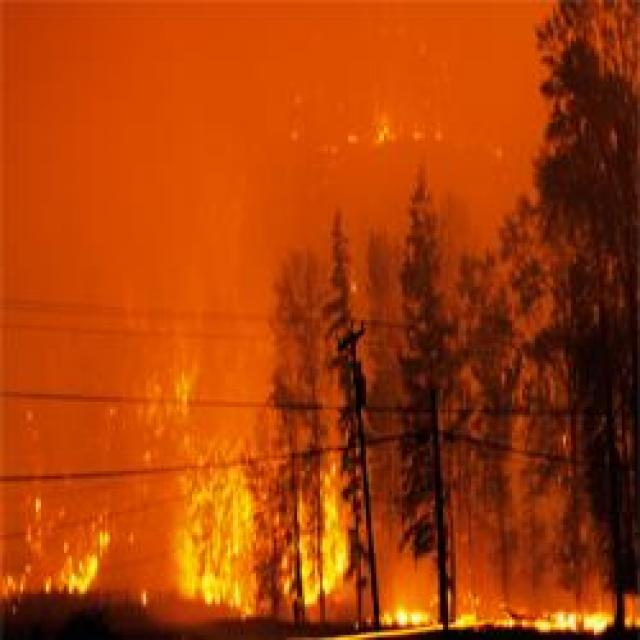fire: (183, 486, 256, 610), (321, 475, 346, 586), (57, 550, 104, 600), (538, 610, 612, 636), (384, 608, 427, 630)
